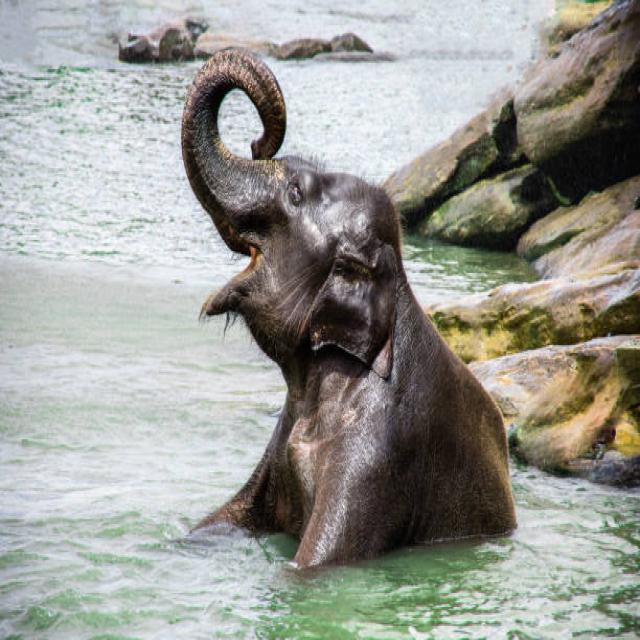Elephant: (179, 46, 525, 570)
